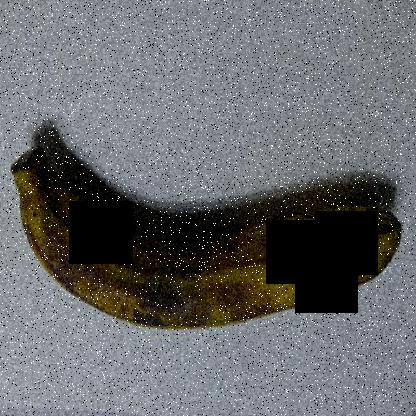overripe: (4, 119, 412, 342)
